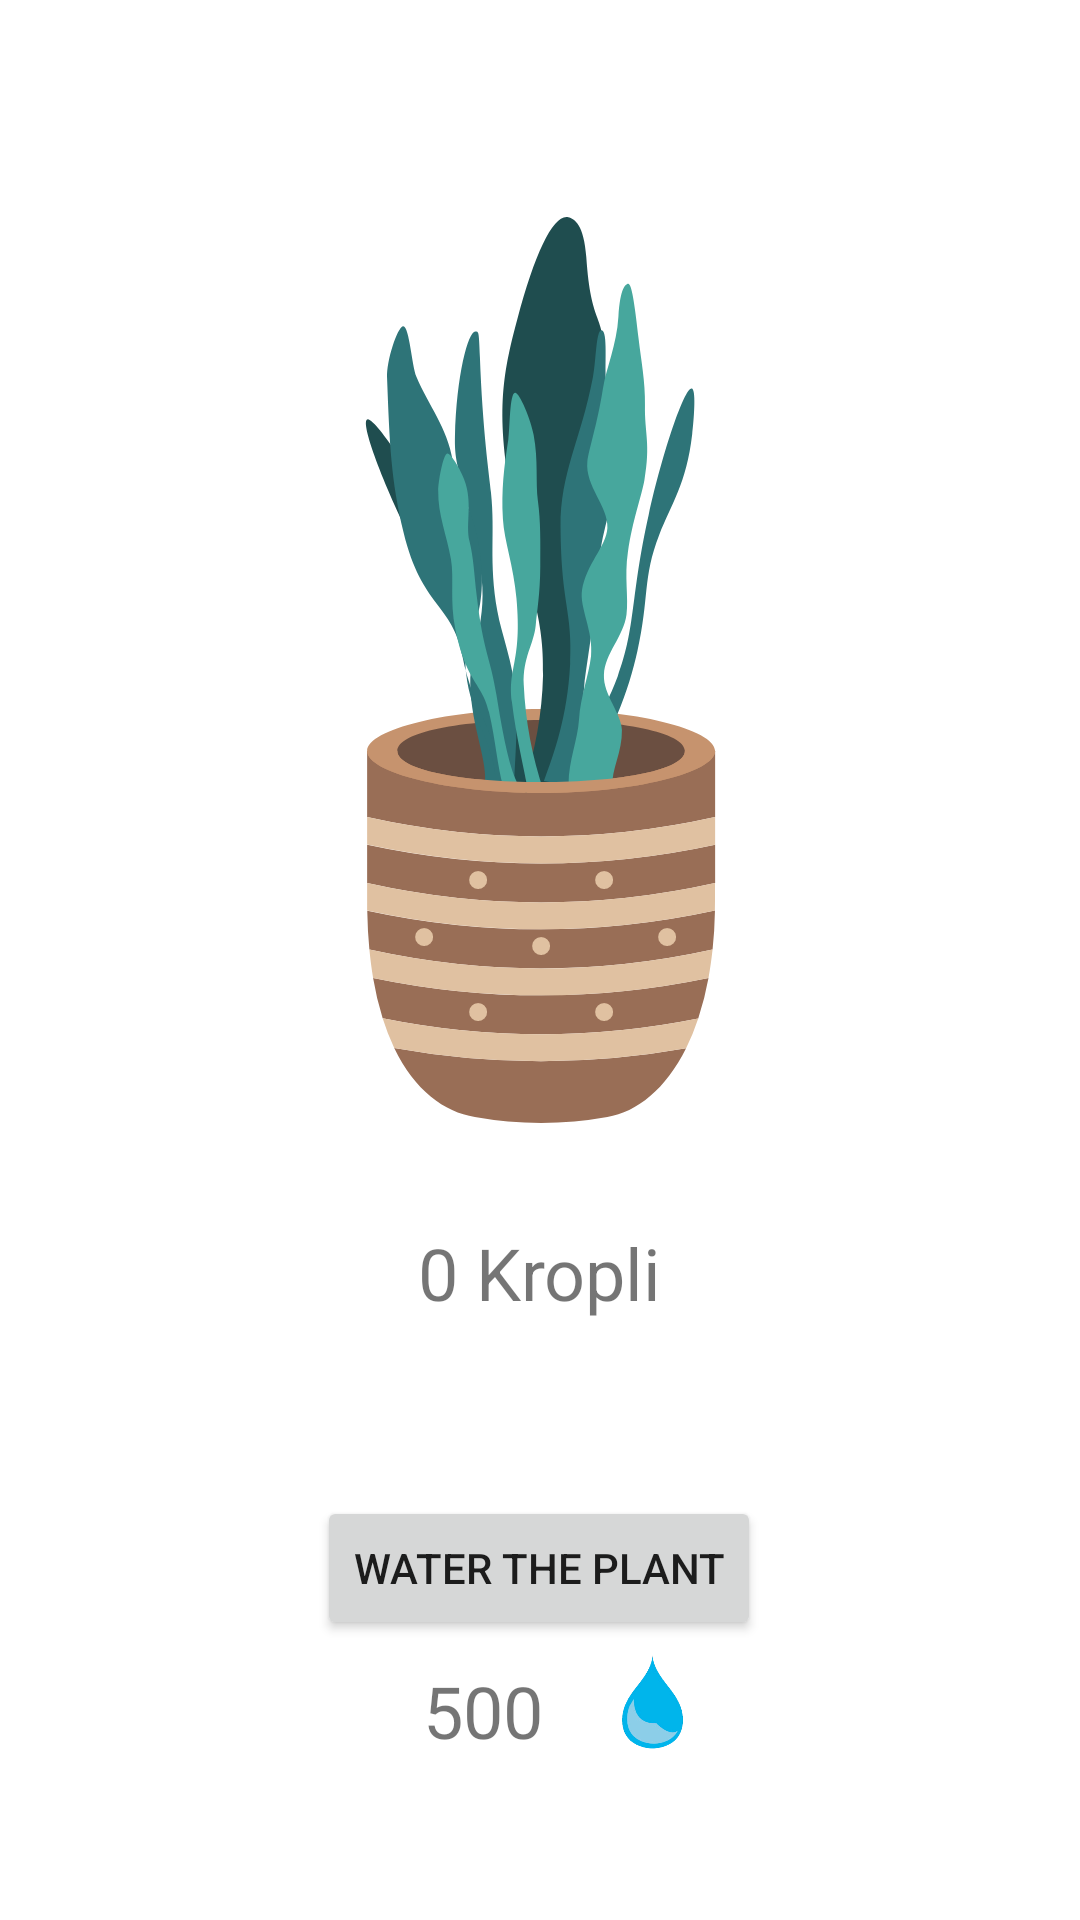

Icons on this 1080 × 1920 Android screen, each with the point to tap as point (x, y):
waterdrop: point (652, 1702)
